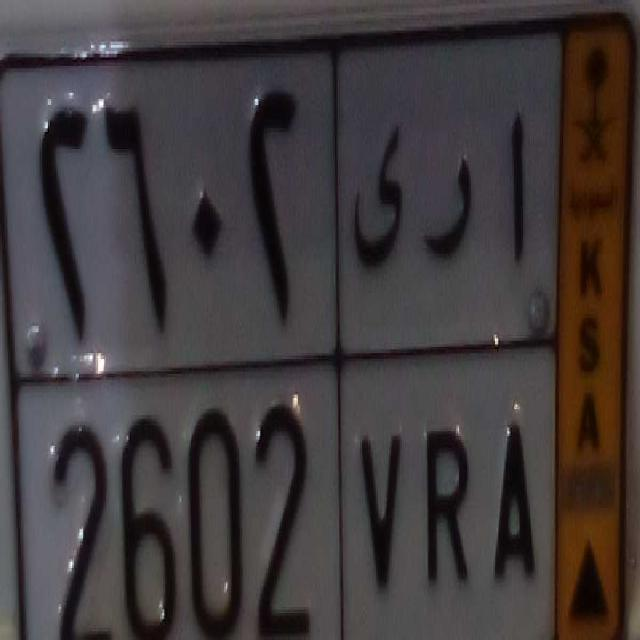license_plate: (7, 342, 557, 640)
